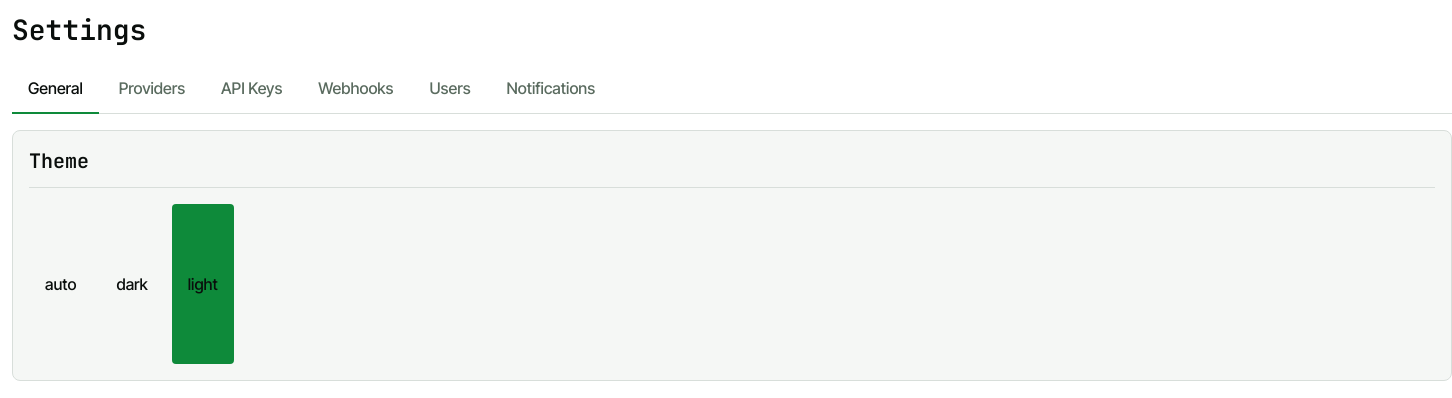
Settings › surfaces webhook delete failures
The image size is (1452, 398).
Step 1. Click the tab "Webhooks" → (356, 89), box top-left (302, 64), bottom-right (409, 114)
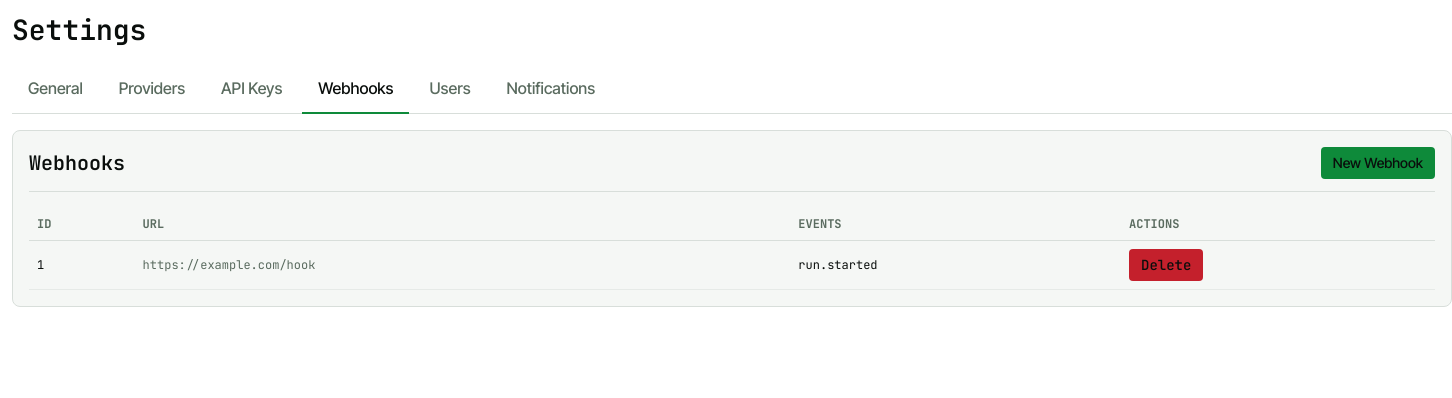
Now the text "https://example.com/hook" is shown, box top-left (135, 240), bottom-right (790, 290)
Step 2. Click the button "Delete" → (1166, 265), box top-left (1129, 249), bottom-right (1203, 281)
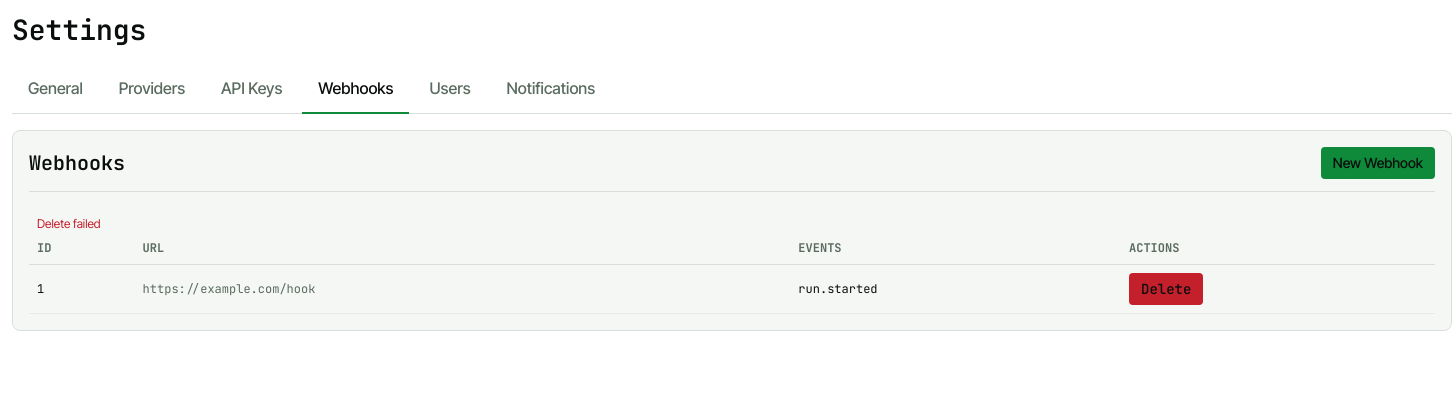
Now the message reads "Delete failed", box top-left (37, 216), bottom-right (101, 231)
